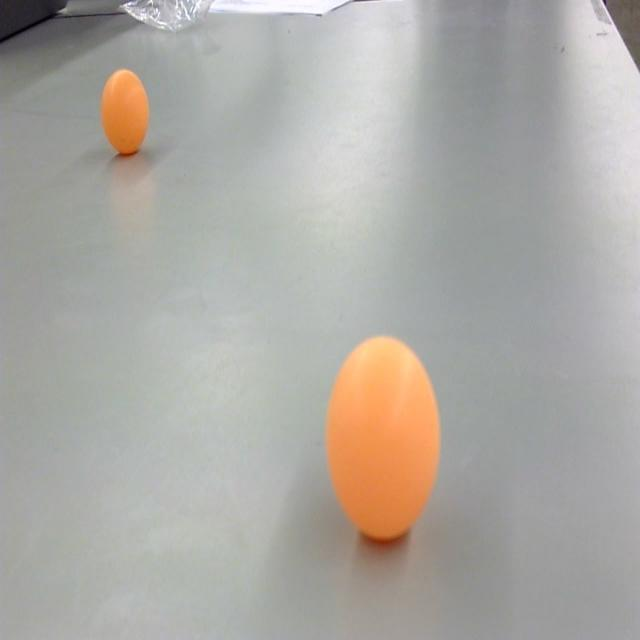ball: (324, 329, 444, 547), (96, 63, 150, 156)
